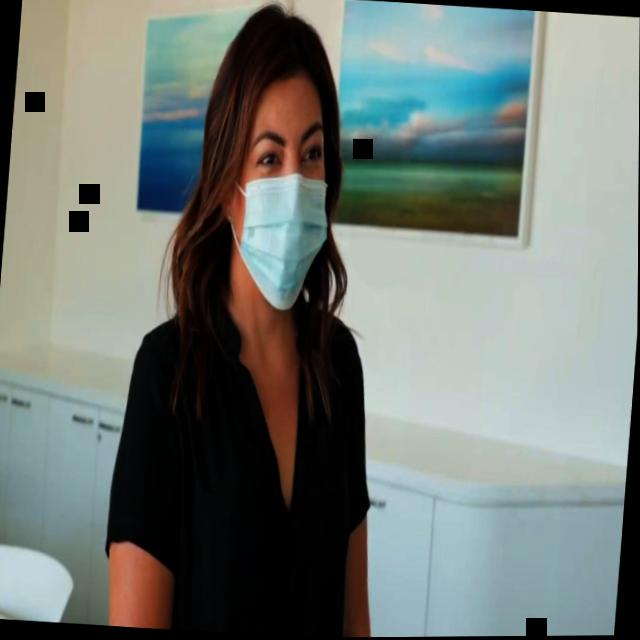Mask: (227, 65, 340, 313)
